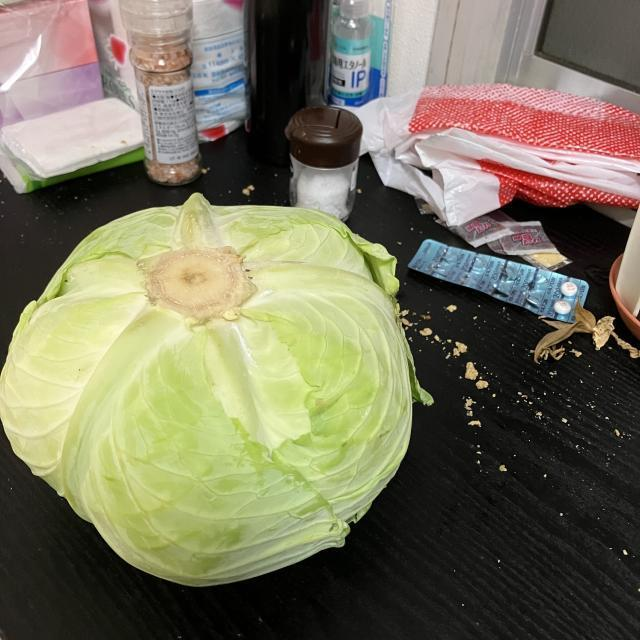cabbage: (0, 191, 436, 593)
